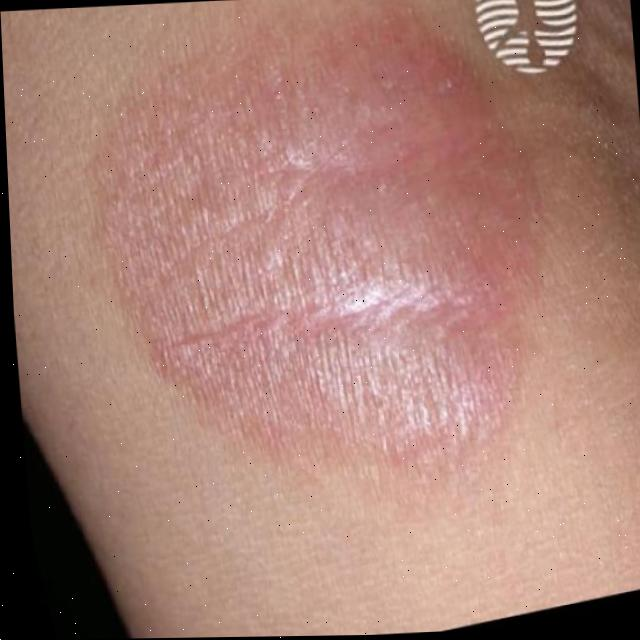Eczema: (69, 0, 551, 470)
